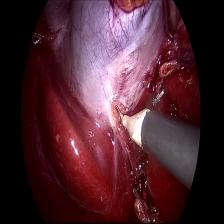Hook: (114, 100, 158, 156)
